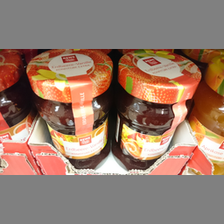jam: (112, 52, 200, 169), (27, 49, 110, 169)
